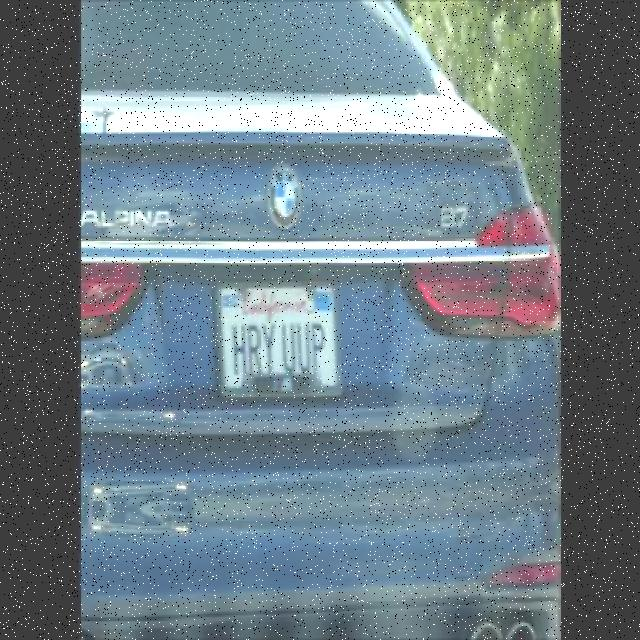licenseplate: (215, 276, 350, 402)
